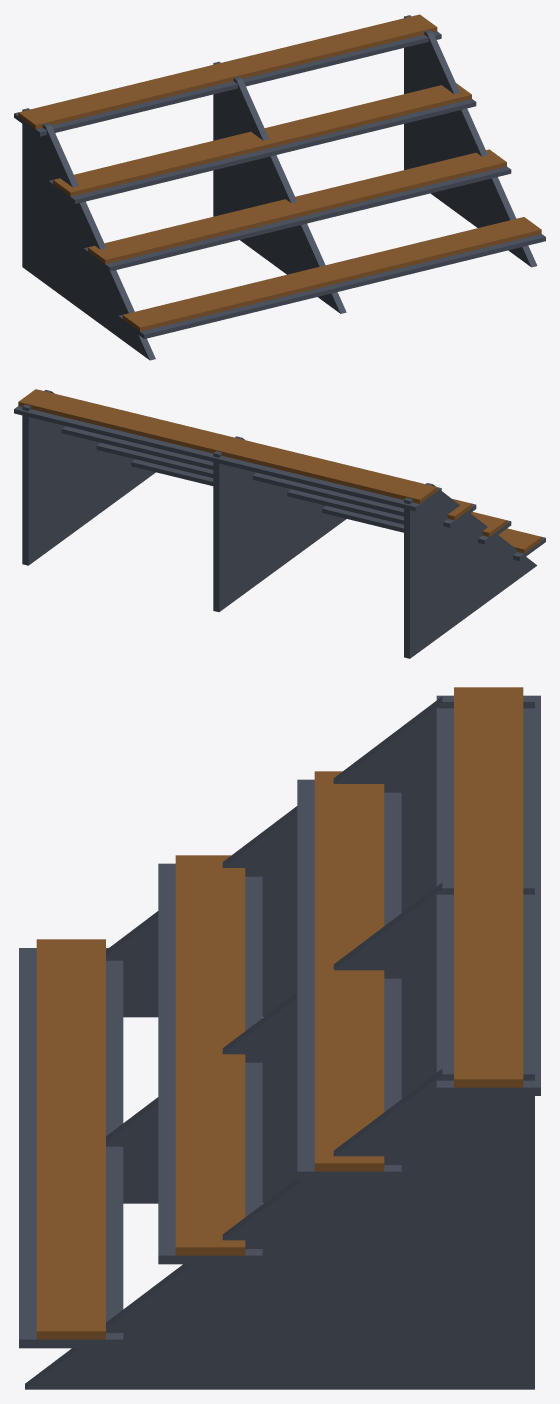
The model's file is bleachers.glb.
3 views of the same model, one above another, from view 1: azimuth 30°, elevation 25°; view 2: azimuth 150°, elevation 25°; view 3: azimuth 270°, elevation 25° (orthographic). The views are drawn at different scales.
Parts seen in each view (by area): view 1: bleachers; view 2: bleachers; view 3: bleachers.
Boxes of the visible parts, x1,y1,x2,y2 form: bleachers: (14,14,545,360); bleachers: (14,389,545,658); bleachers: (19,687,540,1389).
Size of the model in its own units: 4 by 1.51 by 2.25.
